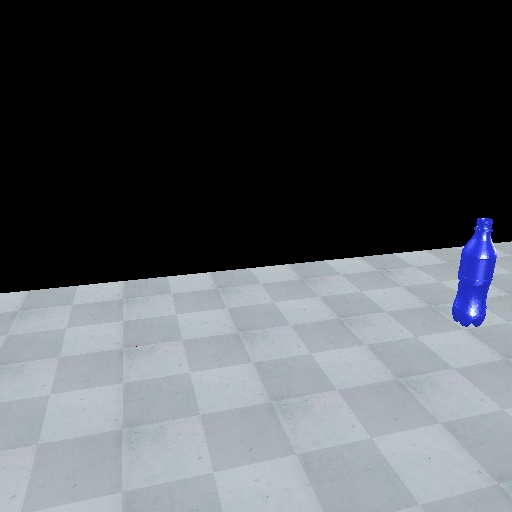bottle: (450, 216, 498, 329)
